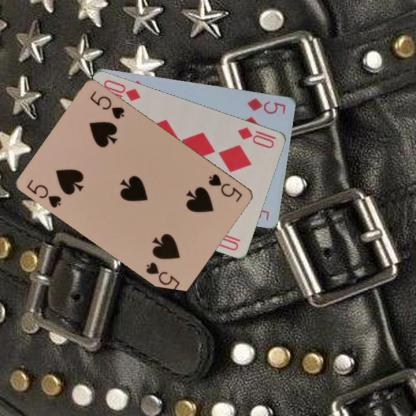10d: (235, 124, 276, 150)
5d: (244, 96, 288, 116)
5s: (24, 176, 63, 209), (206, 171, 244, 203)
